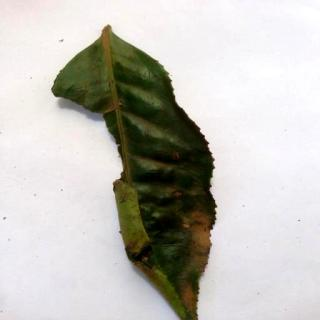Algal Leaf: (55, 26, 218, 320)
